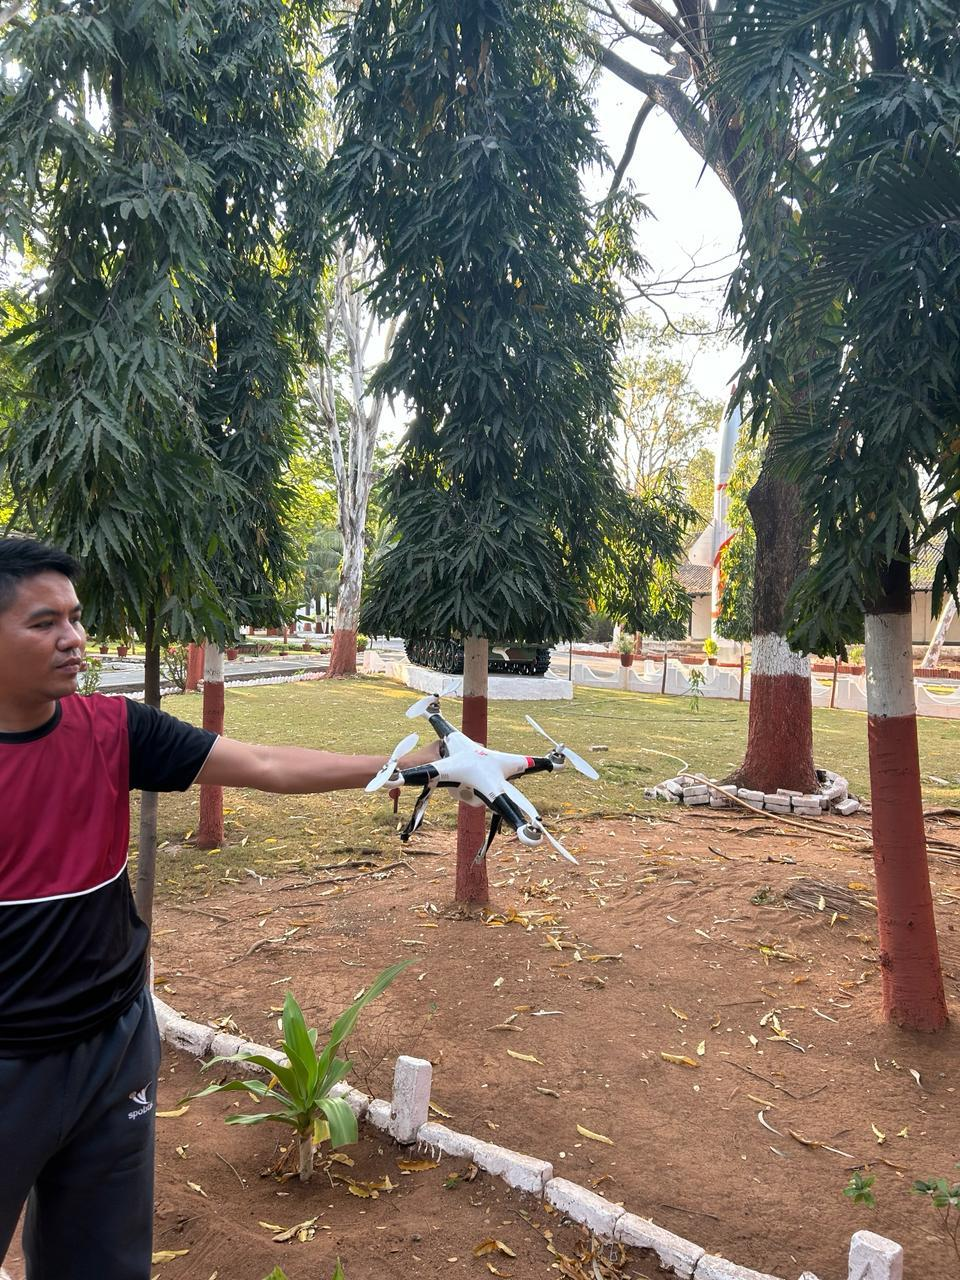drone: (357, 657, 639, 908)
